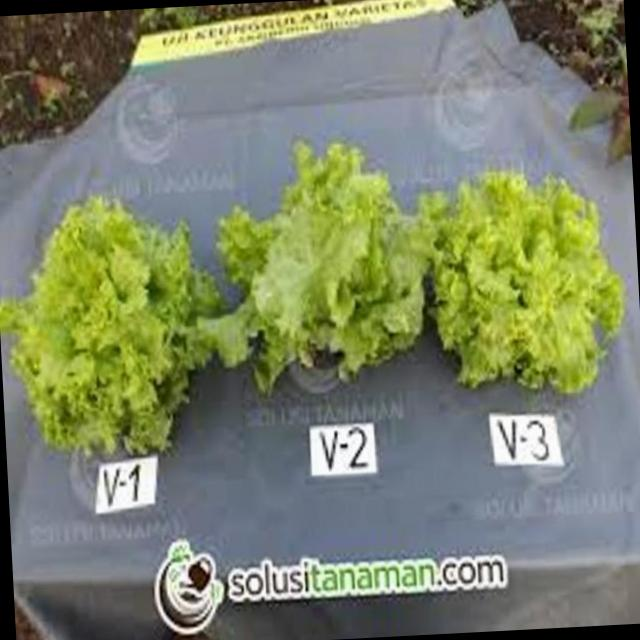Lettuce-Ready-to-Harvest: (0, 196, 221, 455), (215, 143, 428, 391), (420, 171, 625, 394)
